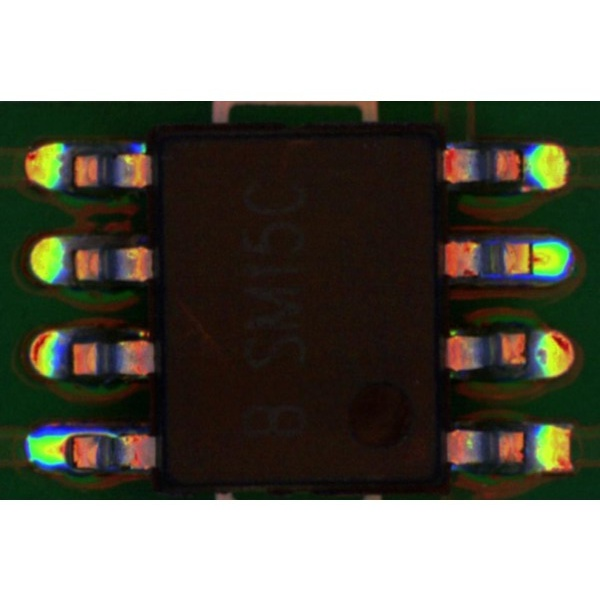Bad_podu: (56, 435, 81, 462), (520, 243, 542, 271)
Bad_qiaojiao: (73, 427, 123, 435)
